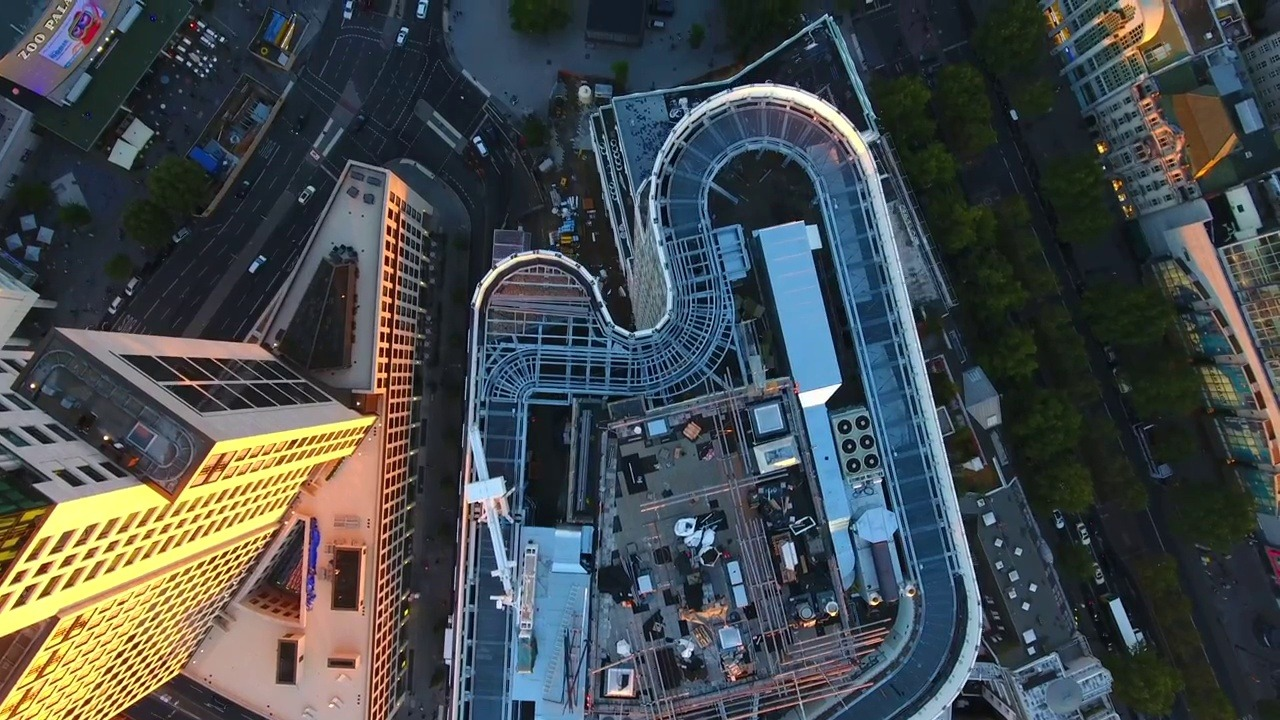car: (244, 246, 271, 279), (292, 179, 319, 210), (391, 18, 415, 49), (470, 128, 493, 160)
